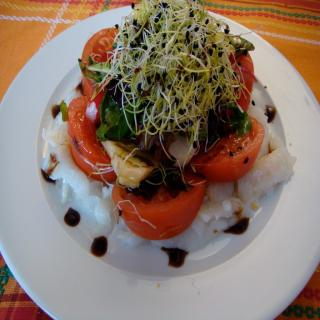tomato: (110, 164, 209, 242), (193, 111, 266, 182), (64, 94, 119, 188), (80, 18, 120, 94), (230, 51, 256, 111)
